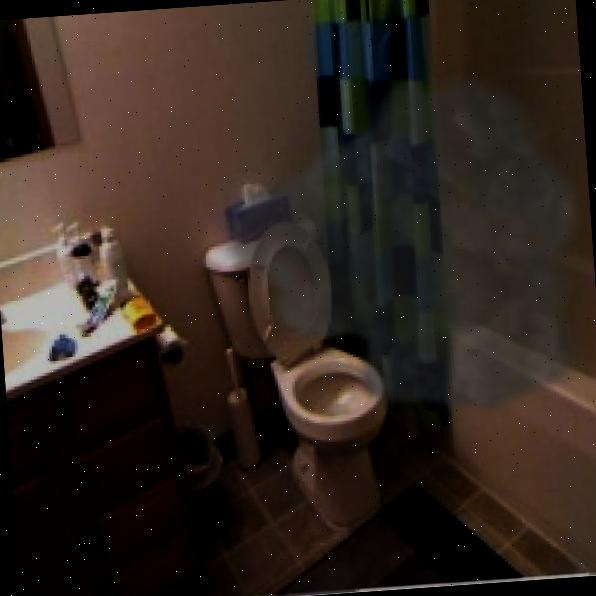smoke: (202, 56, 596, 438)
